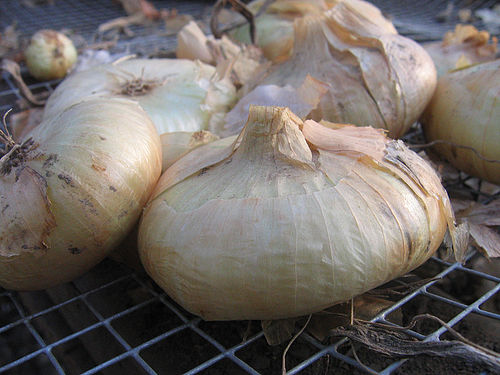onion: (138, 106, 456, 320)
